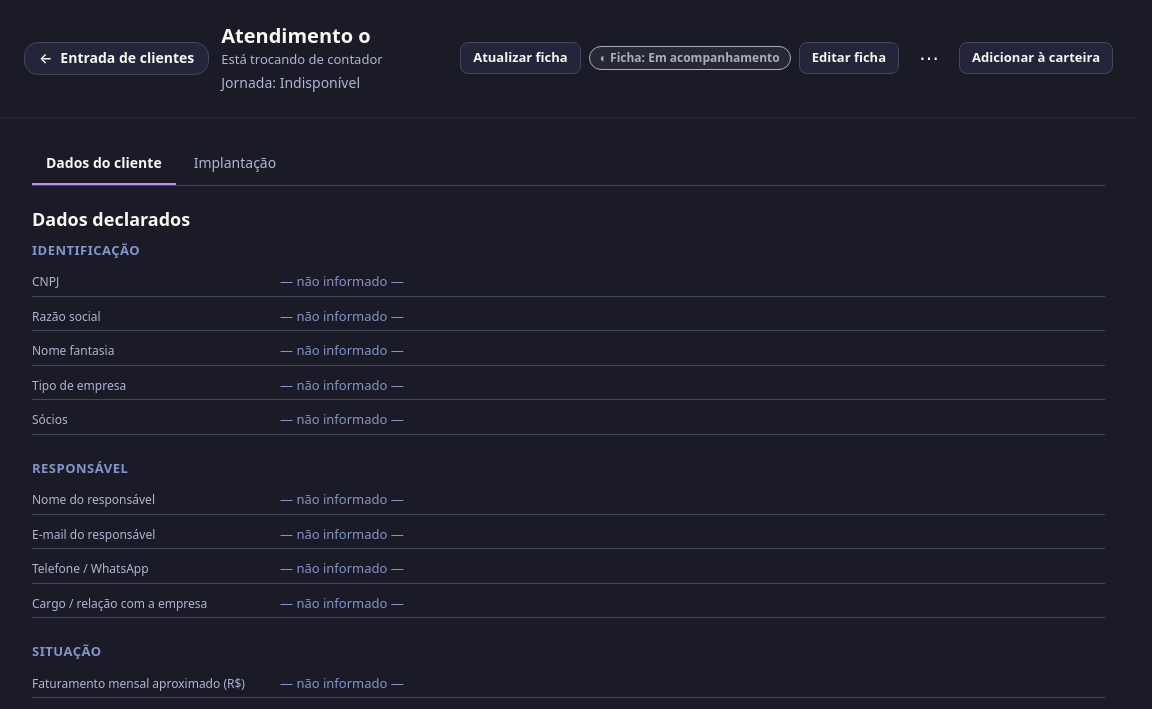
detalhe distingue assinatura histórica de recebimento confirmado (false)
Click the button "Implantação": (235, 163) [180,142,290,184]
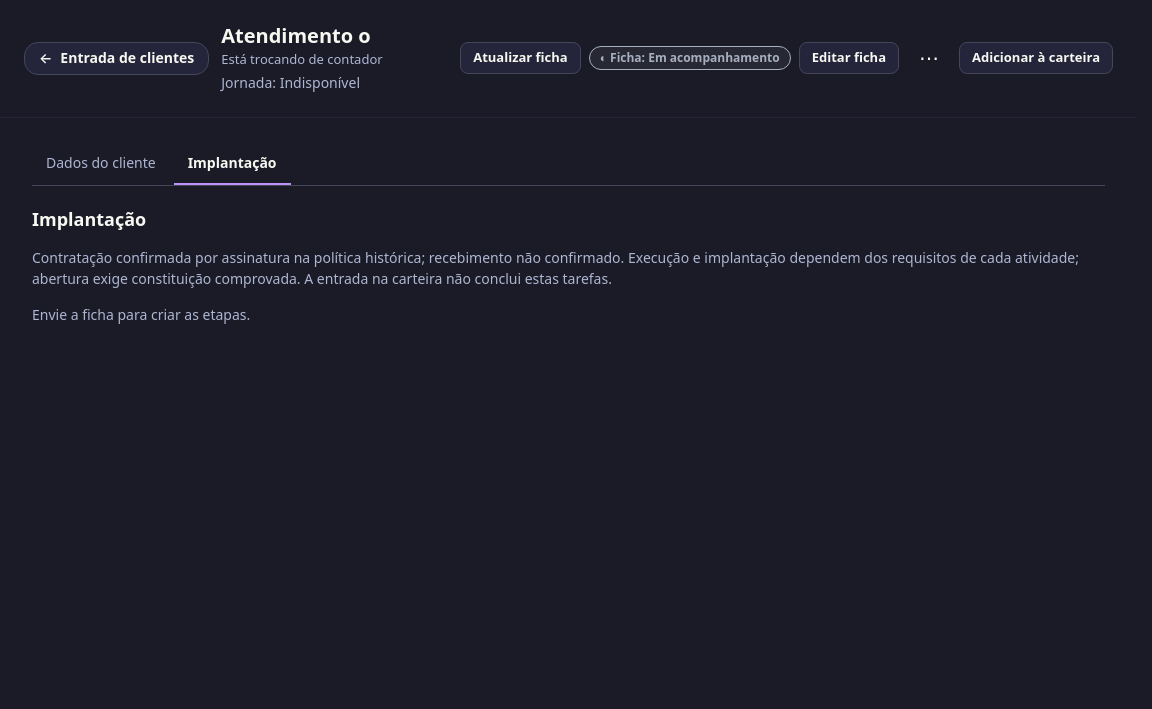
Result: the text "Contratação confirmada por assinatura na política histórica; recebimento não confirmado" is shown at [32,248,624,266]
